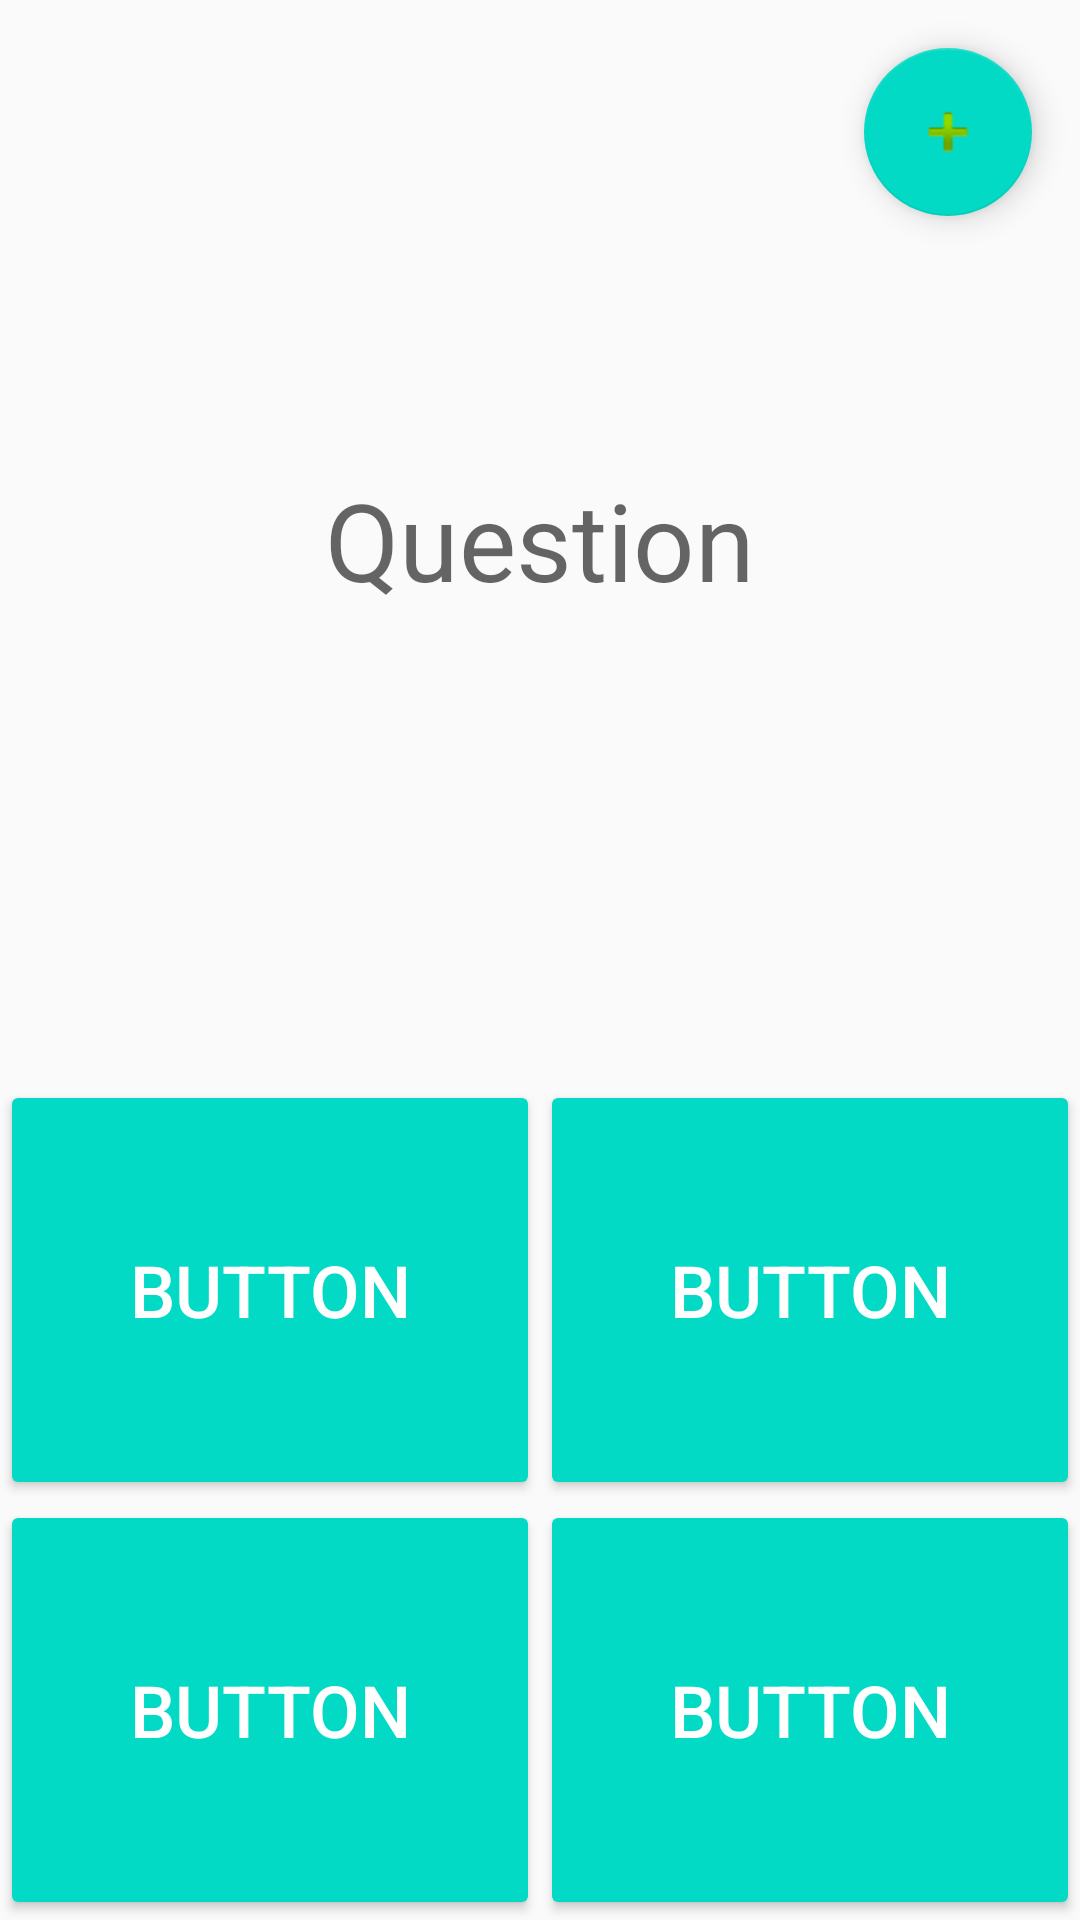

Named icons in this screenshot (1080*1920) and their centers, (x,y):
add: (948,132)
